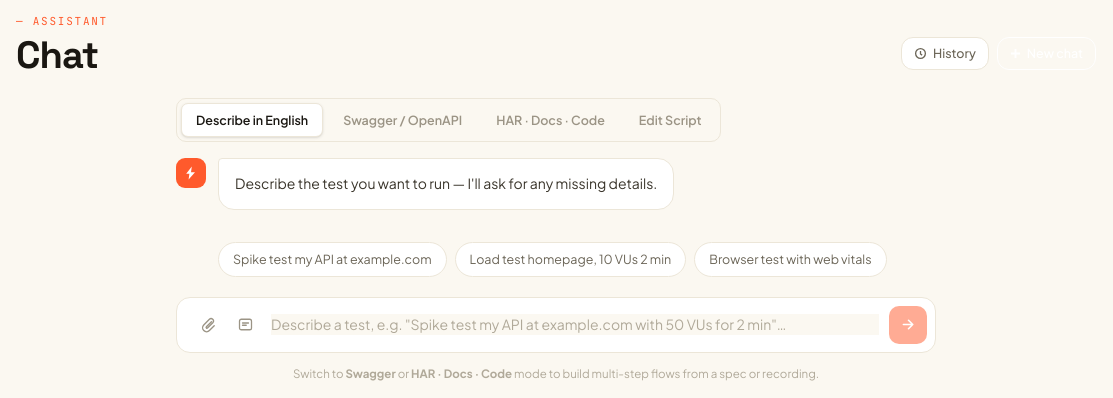
Test: ChatPage — edit mode › shows a no-scripts message with a link to Saved Scripts when the picker is empty
Step 1. Click the button "Edit Script" → (670, 120), box x1=625 y1=102 x2=716 y2=137
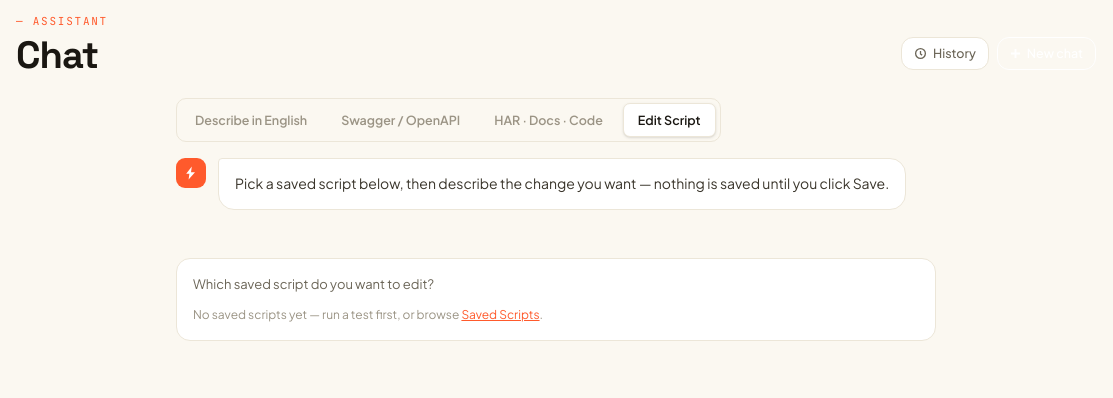
Now the text "No saved scripts yet" is shown, box x1=193 y1=307 x2=461 y2=322
